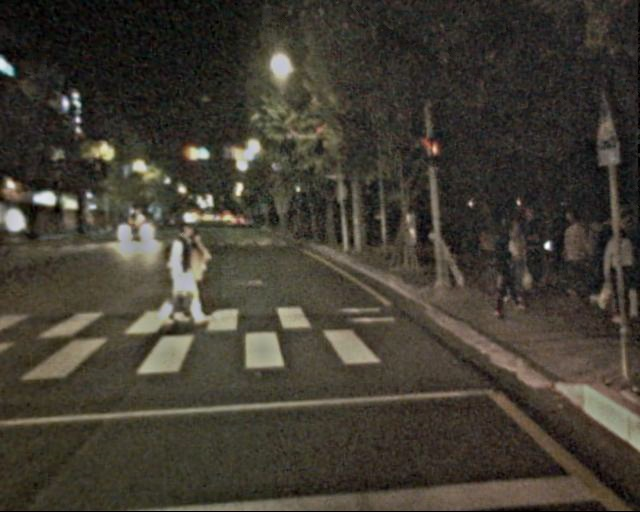person: (497, 207, 546, 318), (157, 219, 200, 323), (596, 231, 637, 330), (175, 231, 213, 324), (585, 213, 622, 303), (557, 210, 593, 298)
